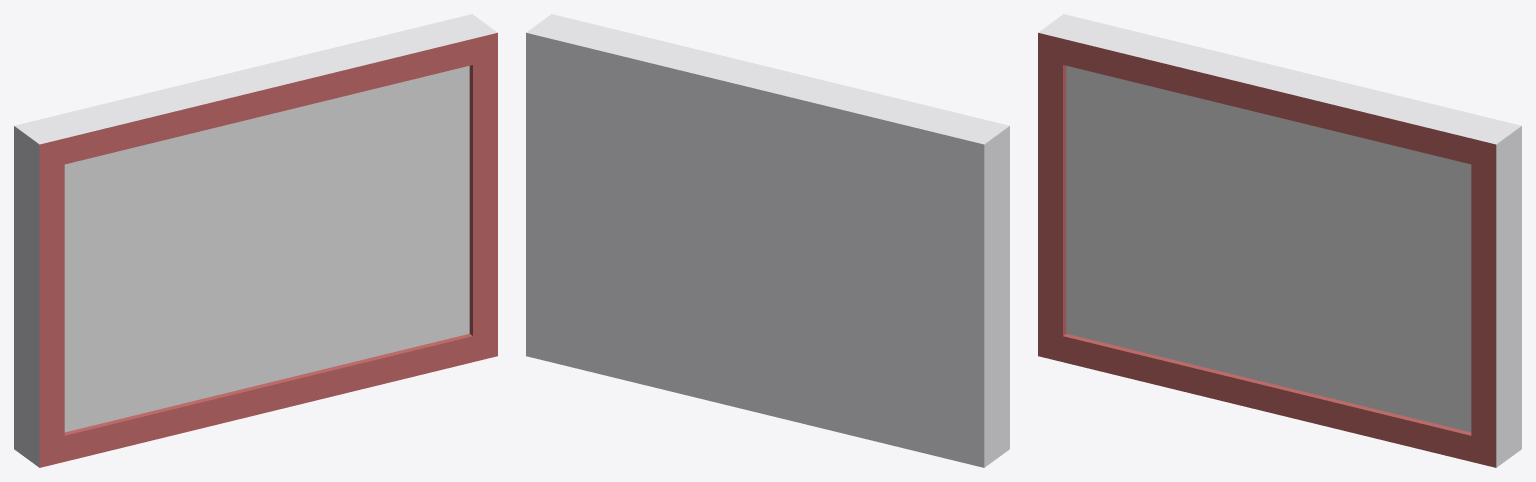
Rendered from Wall_6.fbx.
The picture shows the model from 3 angles, left to right: view 1: azimuth 30°, elevation 25°; view 2: azimuth 150°, elevation 25°; view 3: azimuth 330°, elevation 25°; orthographic projection.
Visible parts, largest first — view 1: Asian_Prop_Building_Modular_Wall_01, Asian_Prop_Building_Modular_Wall_01.002, Asian_Prop_Building_Modular_Wall_01.001; view 2: Asian_Prop_Building_Modular_Wall_01.001; view 3: Asian_Prop_Building_Modular_Wall_01, Asian_Prop_Building_Modular_Wall_01.002, Asian_Prop_Building_Modular_Wall_01.001.
Part boxes in pixels (x1,y1,x2,y2): Asian_Prop_Building_Modular_Wall_01: (64, 65, 469, 432); Asian_Prop_Building_Modular_Wall_01.002: (39, 33, 497, 467); Asian_Prop_Building_Modular_Wall_01.001: (14, 14, 497, 467); Asian_Prop_Building_Modular_Wall_01.001: (526, 14, 1009, 467); Asian_Prop_Building_Modular_Wall_01: (1066, 65, 1471, 432); Asian_Prop_Building_Modular_Wall_01.002: (1038, 33, 1496, 467); Asian_Prop_Building_Modular_Wall_01.001: (1038, 14, 1521, 467).
Bounding box in the file's own units: 517 × 349 × 50.
